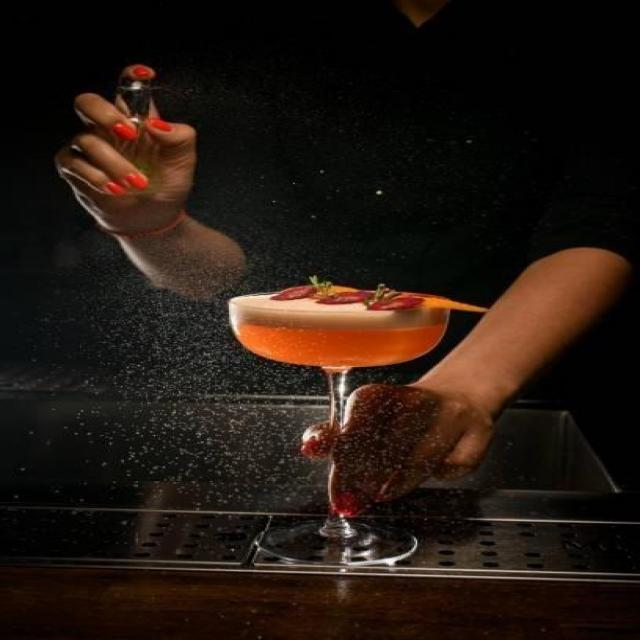glass-wine: (223, 284, 453, 567)
